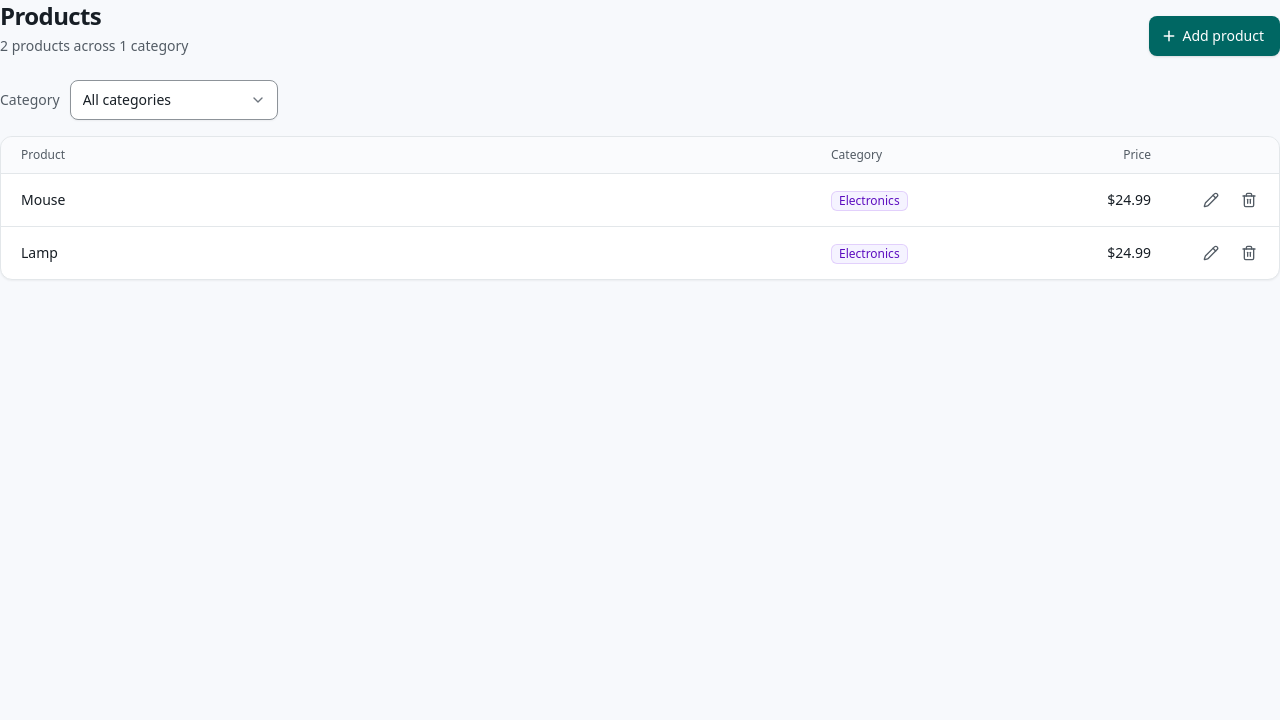
Test: delete product › asks for confirmation, deletes, removes the row, and confirms with a toast
This screenshot has width=1280, height=720.
Click the button named "Delete Mouse".
click(1249, 200)  # box [1231,182,1267,218]
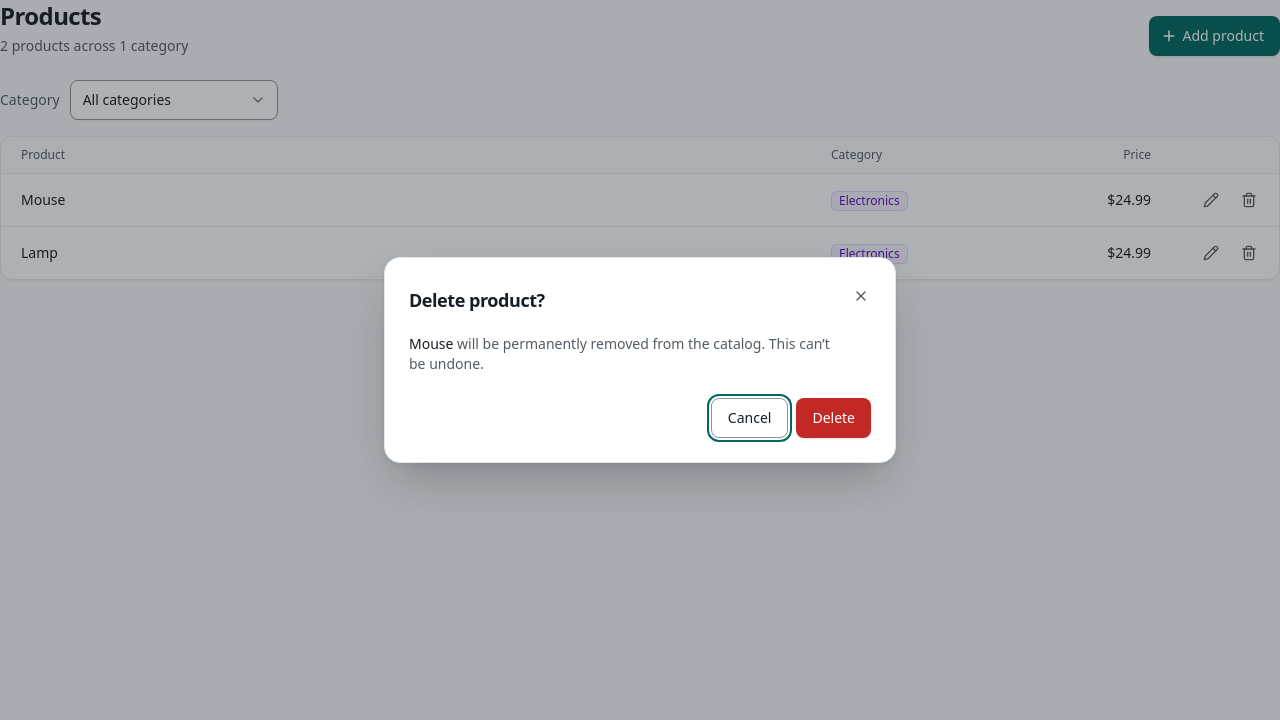
Expected: the dialog "Delete product?" shows "Mouse will be permanently removed", [384,257,896,463]
Click the button "Delete".
click(834, 418)  # box [796,398,871,438]
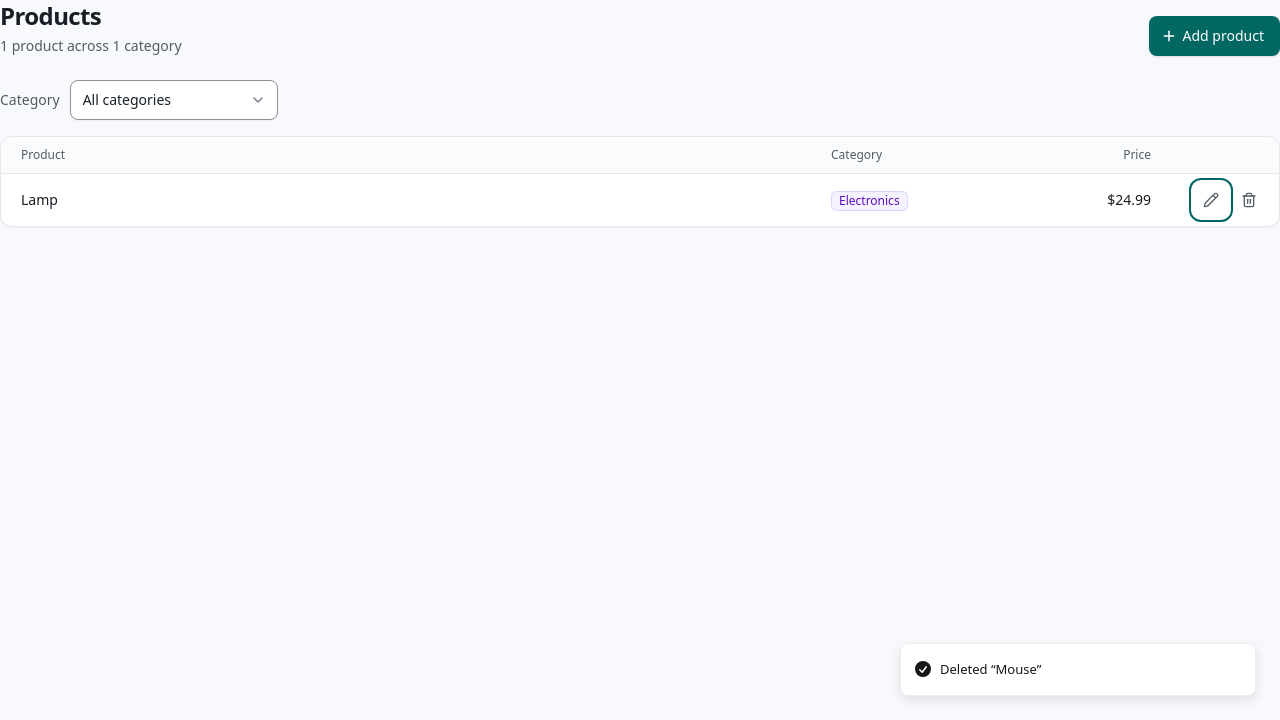
Expected: the button named "Delete Lamp" is shown, [1231,182,1267,218]
Expected: the text "Deleted “Mouse”" is shown, [940,660,1041,679]
Expected: the dialog is gone
